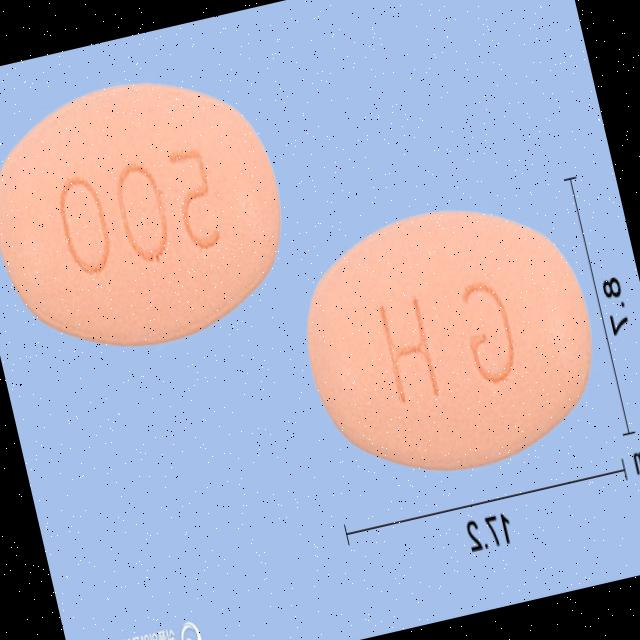Levona: (281, 182, 614, 500), (0, 51, 305, 371)
